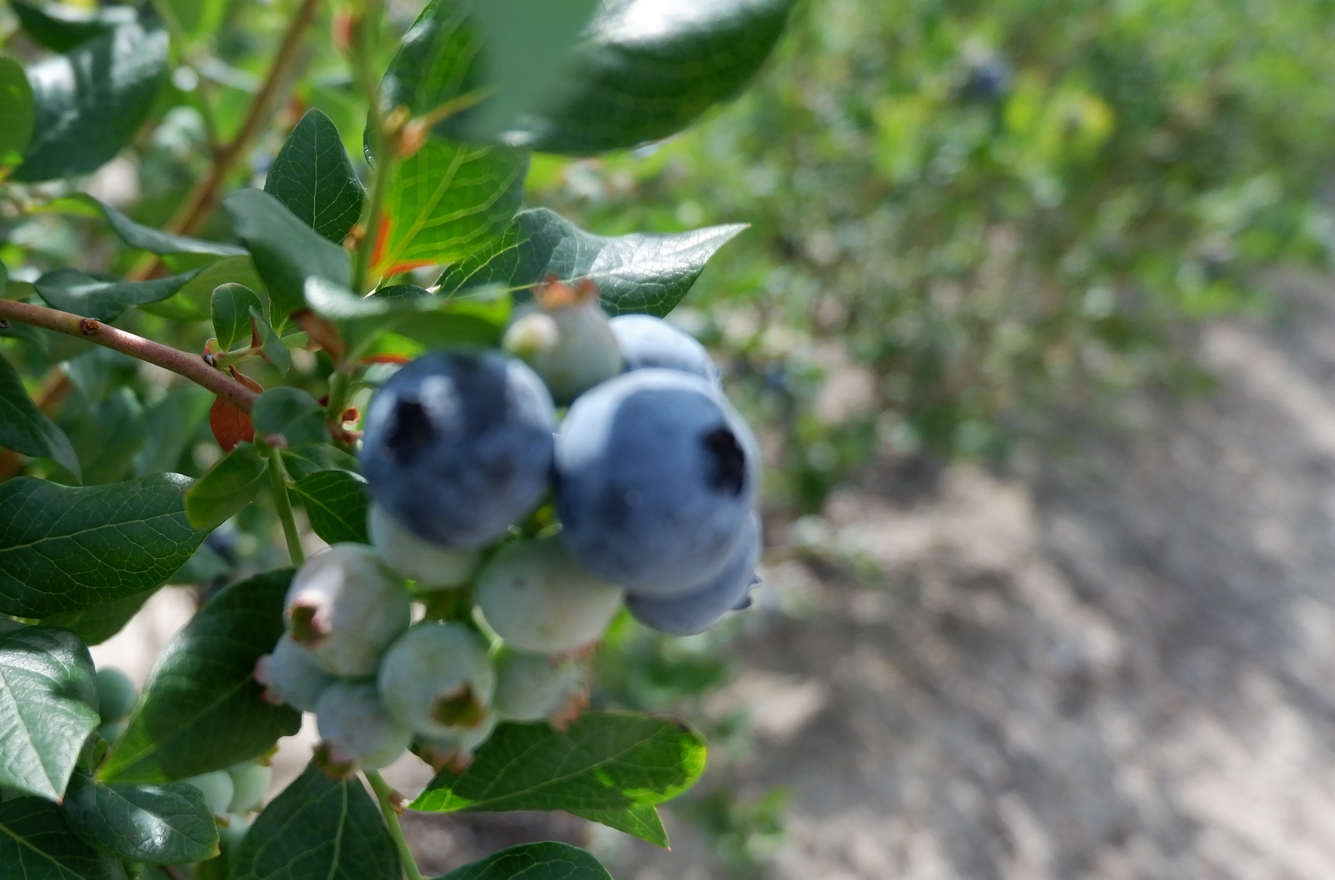Immature: (478, 540, 618, 656), (284, 548, 404, 677), (503, 282, 618, 406), (379, 626, 491, 736), (367, 502, 477, 584), (315, 683, 410, 773), (490, 645, 588, 729), (258, 637, 332, 710), (421, 714, 494, 767)
Mature: (553, 377, 755, 587), (365, 348, 550, 546), (624, 516, 760, 633), (610, 316, 717, 383)
